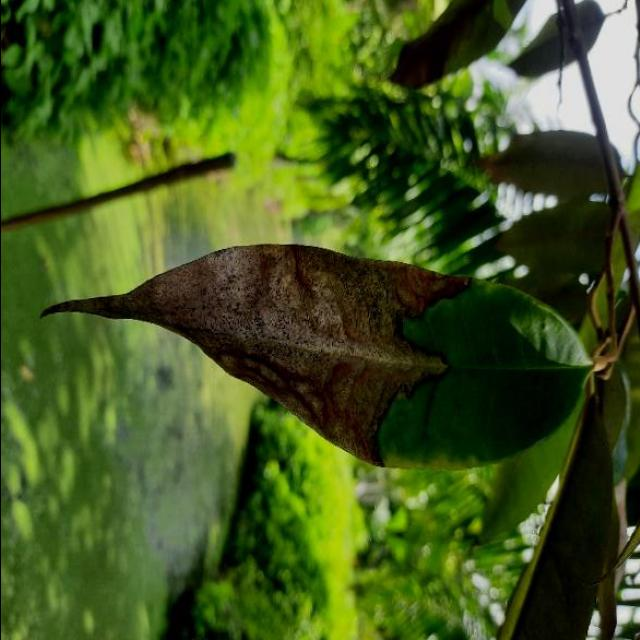Leaf Blight: (24, 219, 600, 504)
